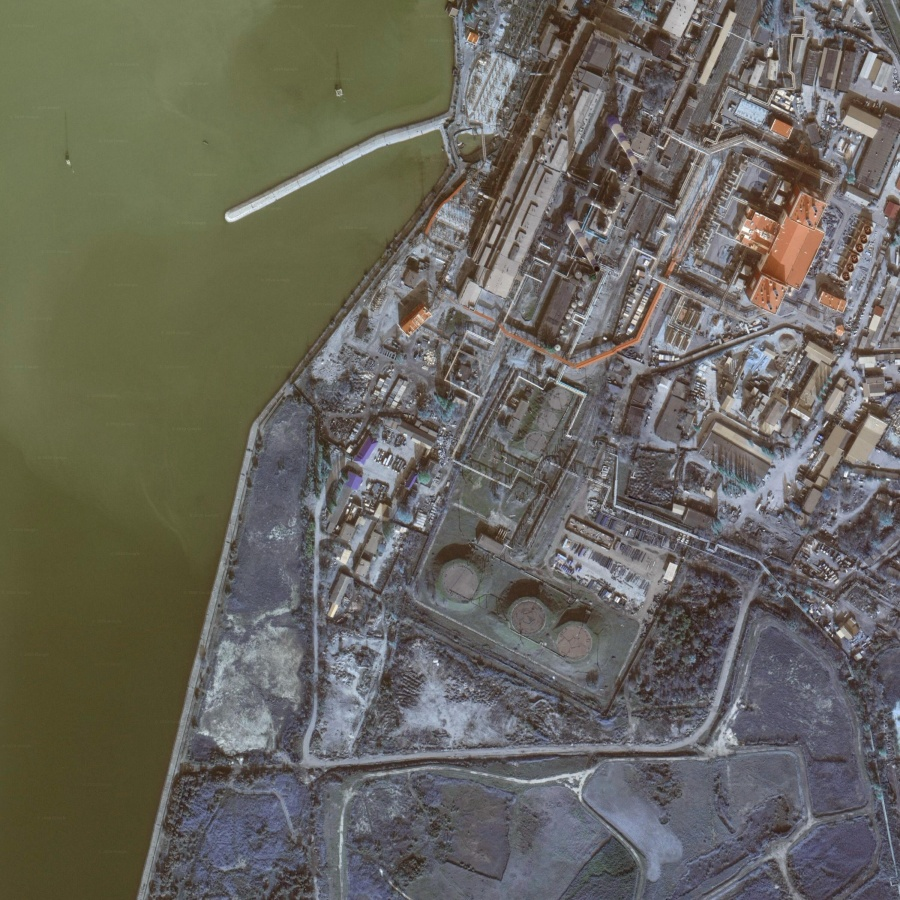PowerPlant: (423, 380, 609, 674)
